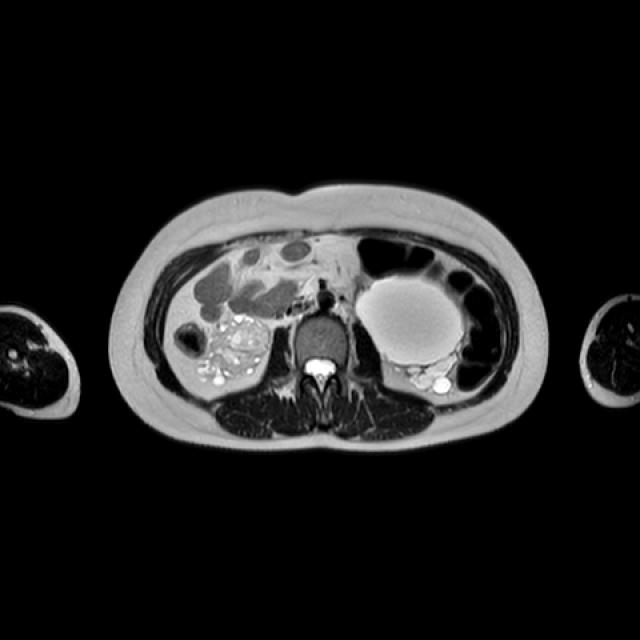sag: (196, 311, 273, 384)
sol: (356, 274, 466, 397)
